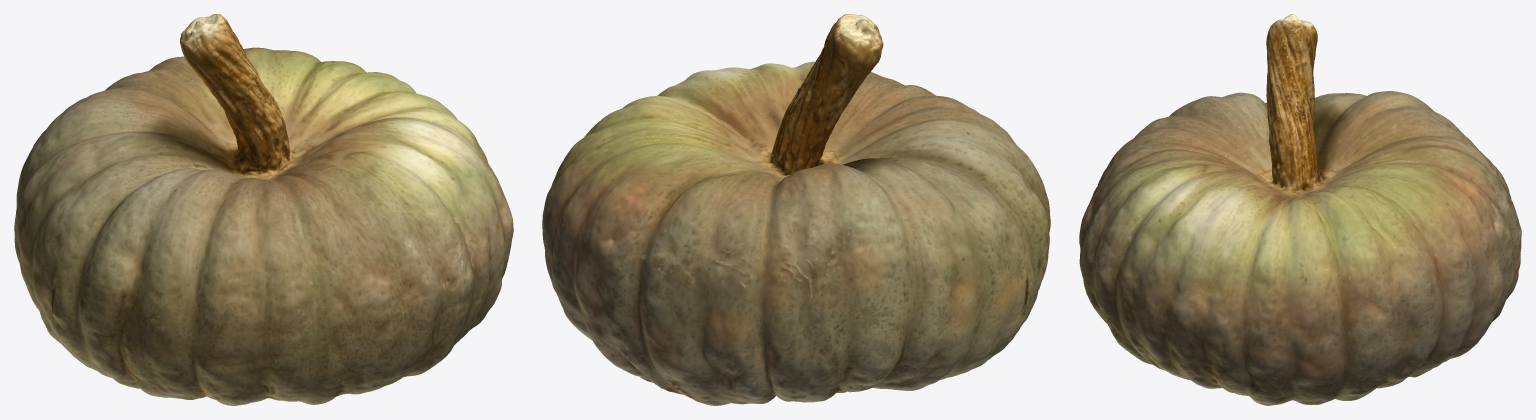
The model's file is pumpkin.glb.
3 views of the same model, side by side, from view 1: azimuth 30°, elevation 25°; view 2: azimuth 150°, elevation 25°; view 3: azimuth 270°, elevation 25° (orthographic). The views are drawn at different scales.
Visible parts, largest first — view 1: pumpkin; view 2: pumpkin; view 3: pumpkin.
Boxes of the visible parts, <box> form: pumpkin: <box>14,14,513,405</box>; pumpkin: <box>542,14,1050,405</box>; pumpkin: <box>1079,14,1521,405</box>.
Bounding box in the file's own units: 261 × 195 × 259.
Materials: 1 (1 with a texture image).
